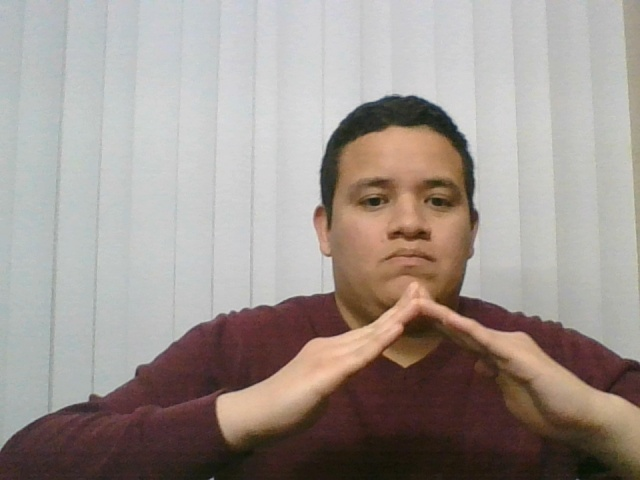House: (139, 254, 618, 463)
